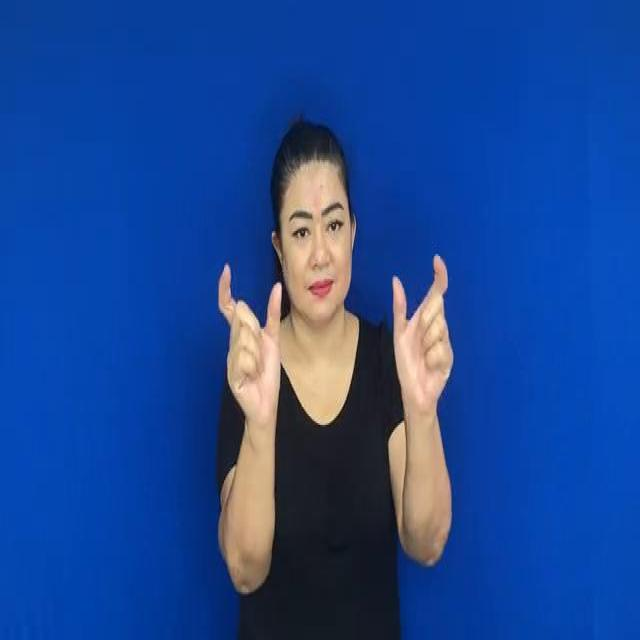crab: (377, 239, 460, 423), (209, 267, 297, 428)
